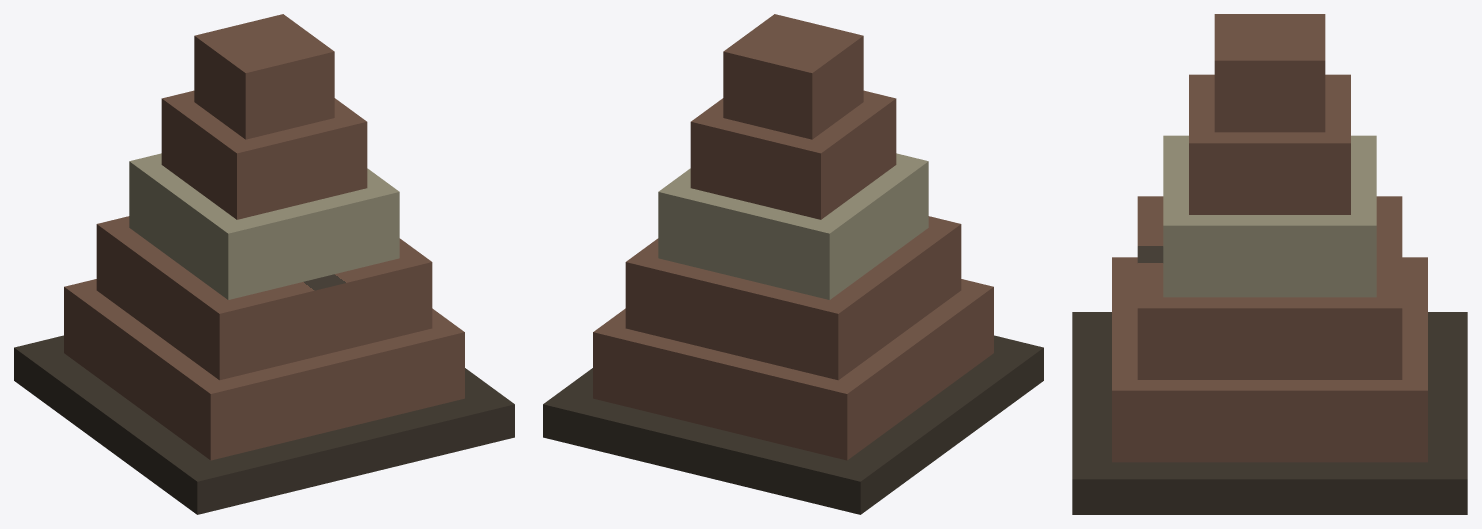
The model's file is traffic_cone.gltf.
3 renders of one model, left to right at view 1: azimuth 30°, elevation 25°; view 2: azimuth 150°, elevation 25°; view 3: azimuth 270°, elevation 25°, orthographic. The views are drawn at different scales.
Parts seen in each view (by area): view 1: cone_tier (×5), foot; view 2: cone_tier (×5), foot; view 3: cone_tier (×5), foot.
Part boxes in pixels (x1=…): cone_tier (×5): x1=64, y1=14, x2=464, y2=460; foot: x1=14, y1=335, x2=514, y2=514; cone_tier (×5): x1=593, y1=14, x2=993, y2=460; foot: x1=543, y1=335, x2=1043, y2=514; cone_tier (×5): x1=1112, y1=14, x2=1427, y2=462; foot: x1=1072, y1=312, x2=1467, y2=514.
Size of the model in its own units: 0.625 by 0.6875 by 0.625.
3 materials, 3 textured.
